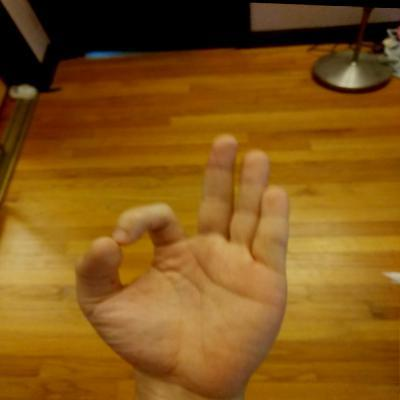hand: (65, 121, 300, 399)
